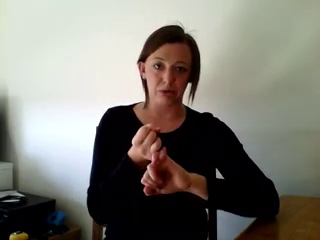S: (128, 122, 180, 198)
